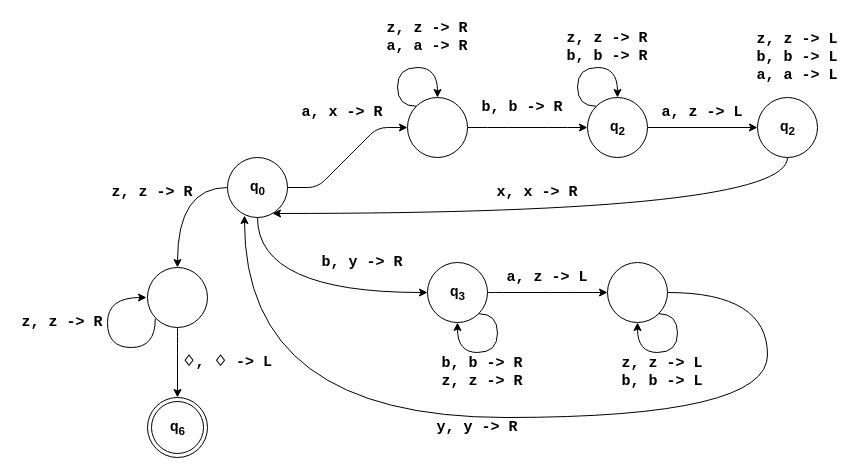
This 864x475 diagram has some shape labels left out. Each missing label, with the centre of its shape:
"q 1" belongs at (x=437, y=127).
"q 4" belongs at (x=637, y=292).
"q 5" belongs at (x=177, y=297).
